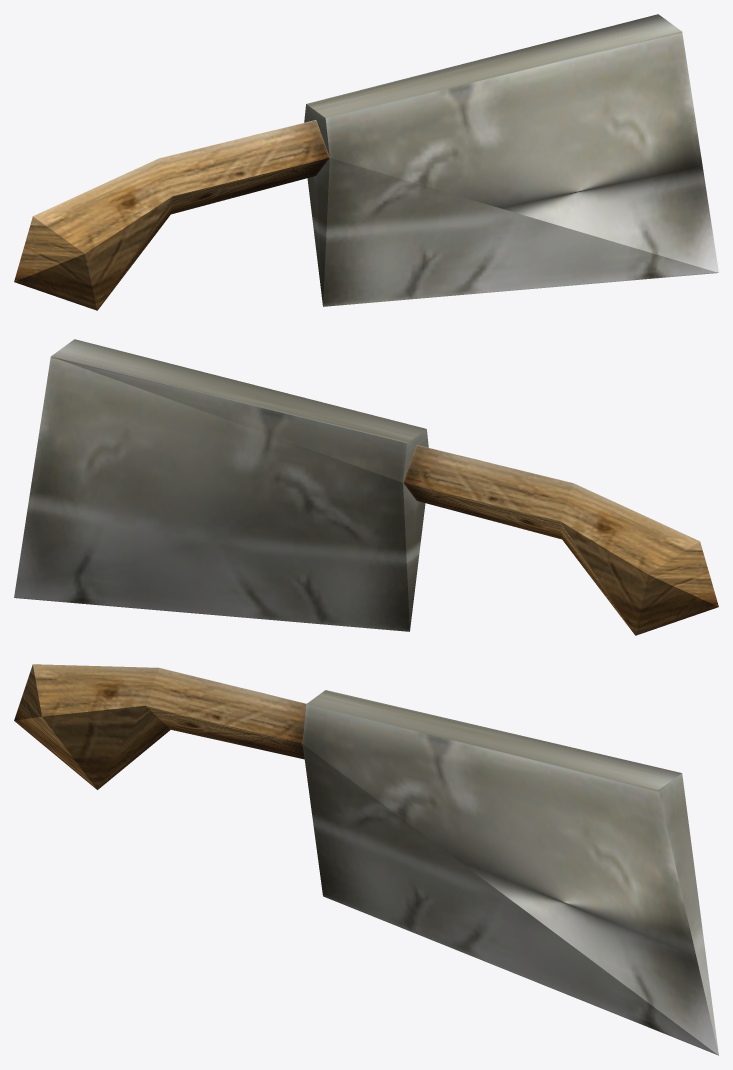
File: cleaver01.obj
3 views of the same model, one above another, from view 1: azimuth 30°, elevation 25°; view 2: azimuth 150°, elevation 25°; view 3: azimuth 330°, elevation 25° (orthographic).
Visible parts, largest first — view 1: cleaver01; view 2: cleaver01; view 3: cleaver01.
Boxes of the visible parts, x1,y1,x2,y2 form: cleaver01: [14, 14, 718, 310]; cleaver01: [14, 339, 718, 635]; cleaver01: [14, 664, 718, 1055].
Bounding box in the file's own units: 0.963 × 0.342 × 0.1012.
1 material, 1 textured.
